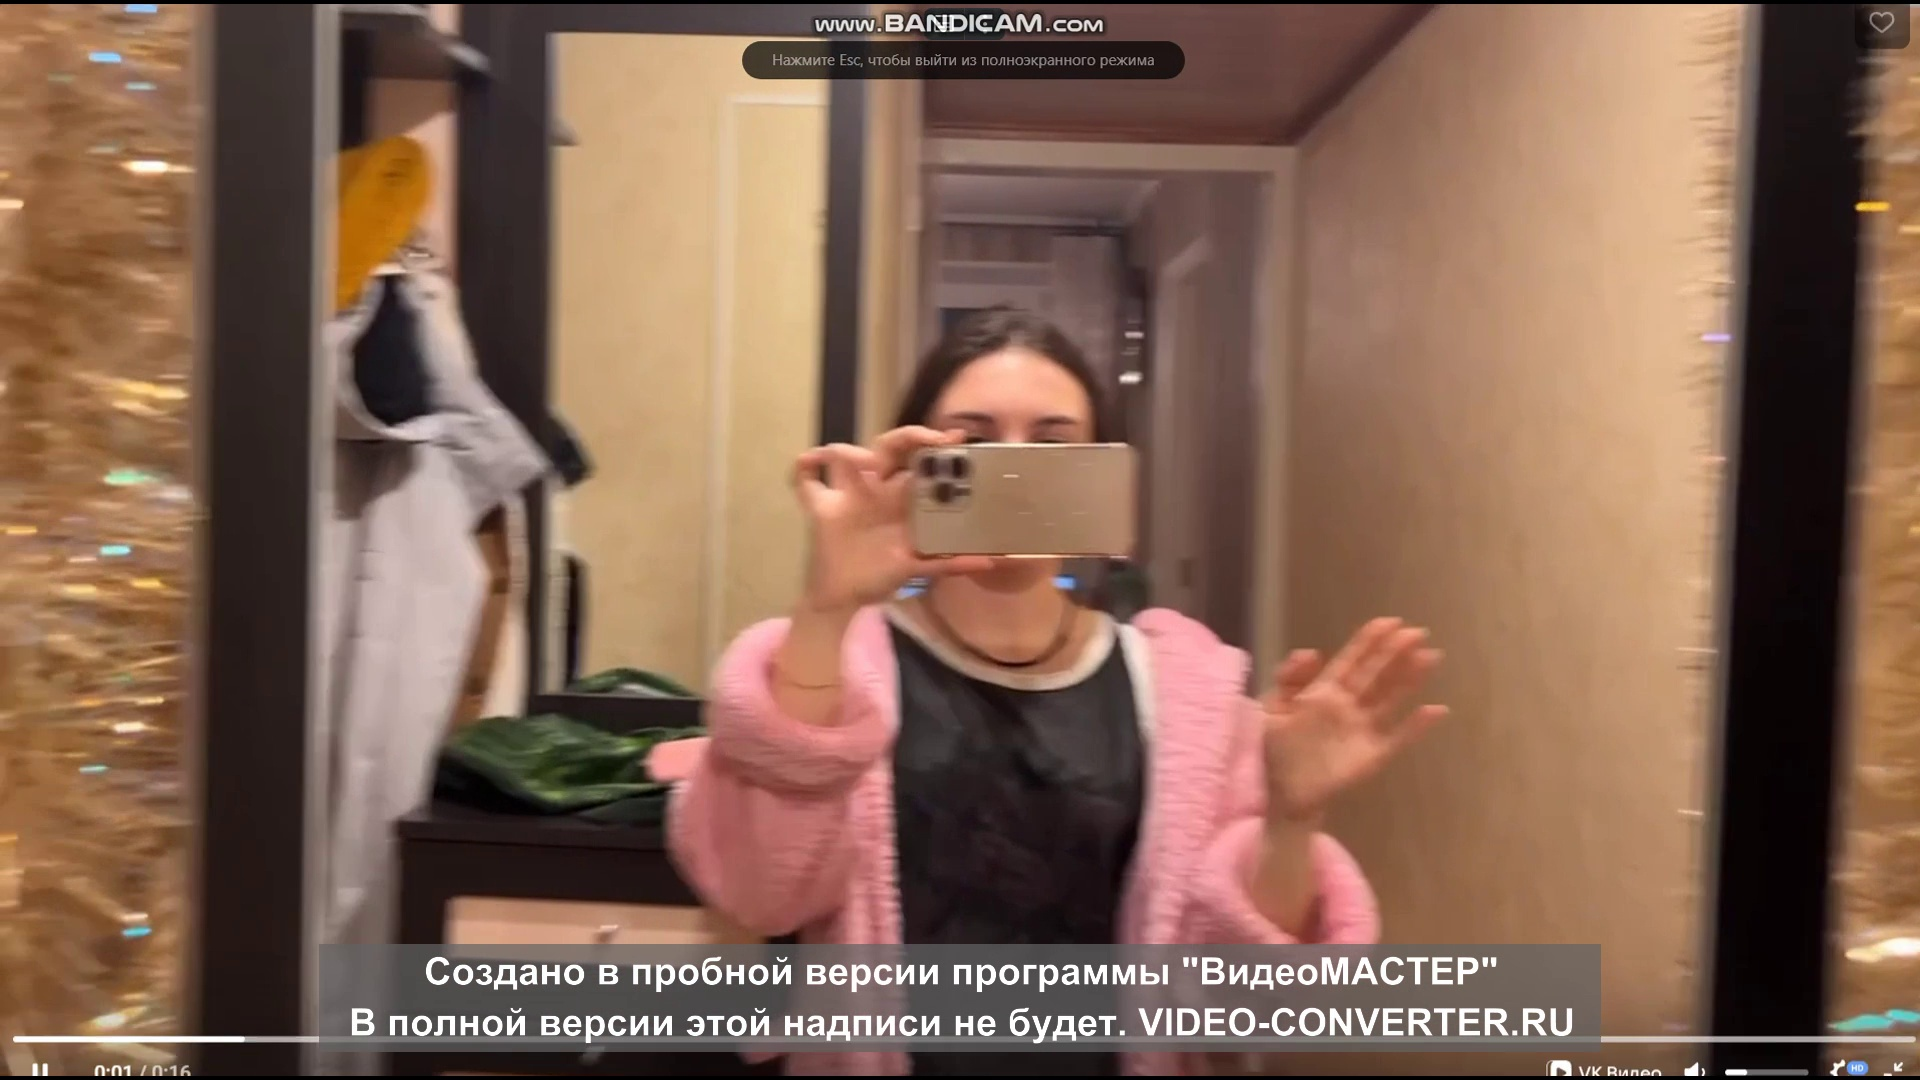Ладонь: (1259, 611, 1445, 806)
